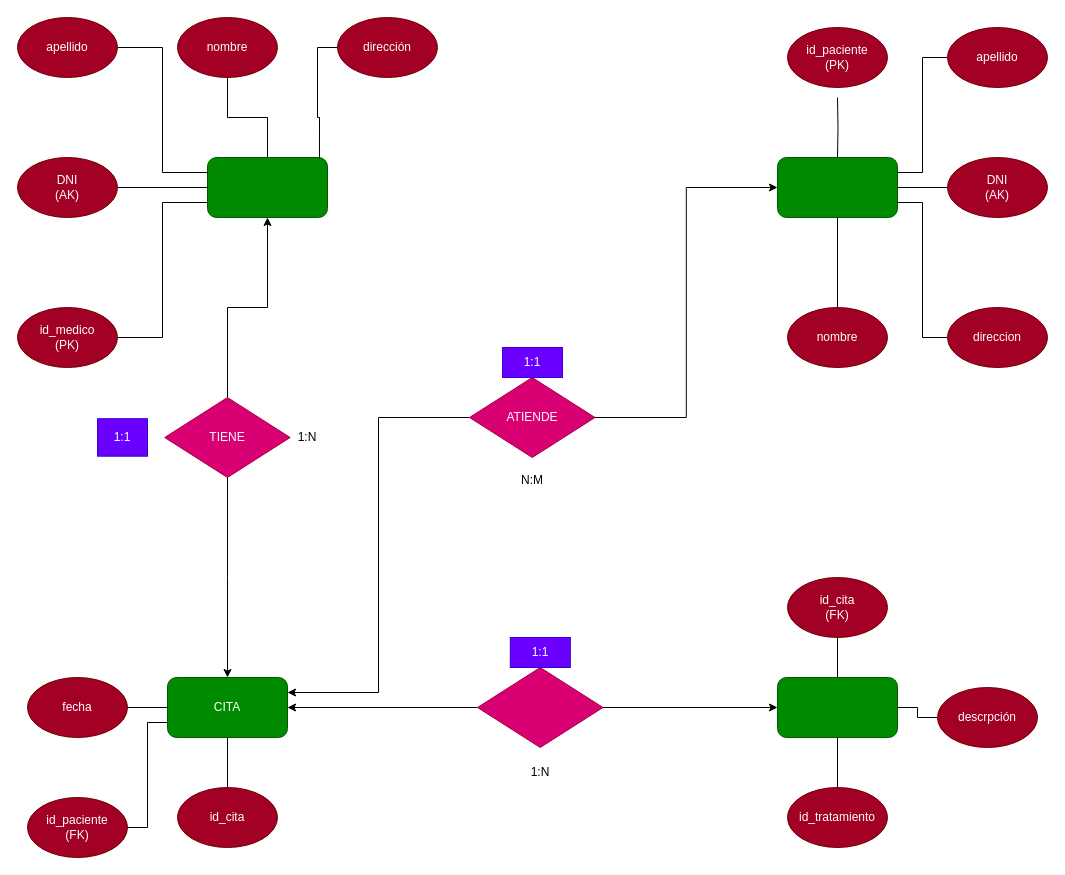
Image size: 1065x875. Some labels were removed from this diagram. The box of each missing label's shape, as (x1, y1, x2, y2) in pixels:
INCLUYE: (476, 666, 603, 748)
MÉDICO: (206, 156, 328, 218)
PACIENTE: (776, 156, 898, 218)
TRATAMIENTO: (776, 676, 898, 738)
